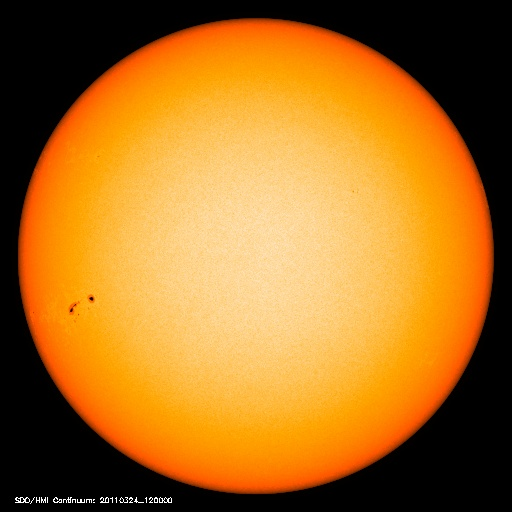sunspot: (59, 287, 103, 325)
